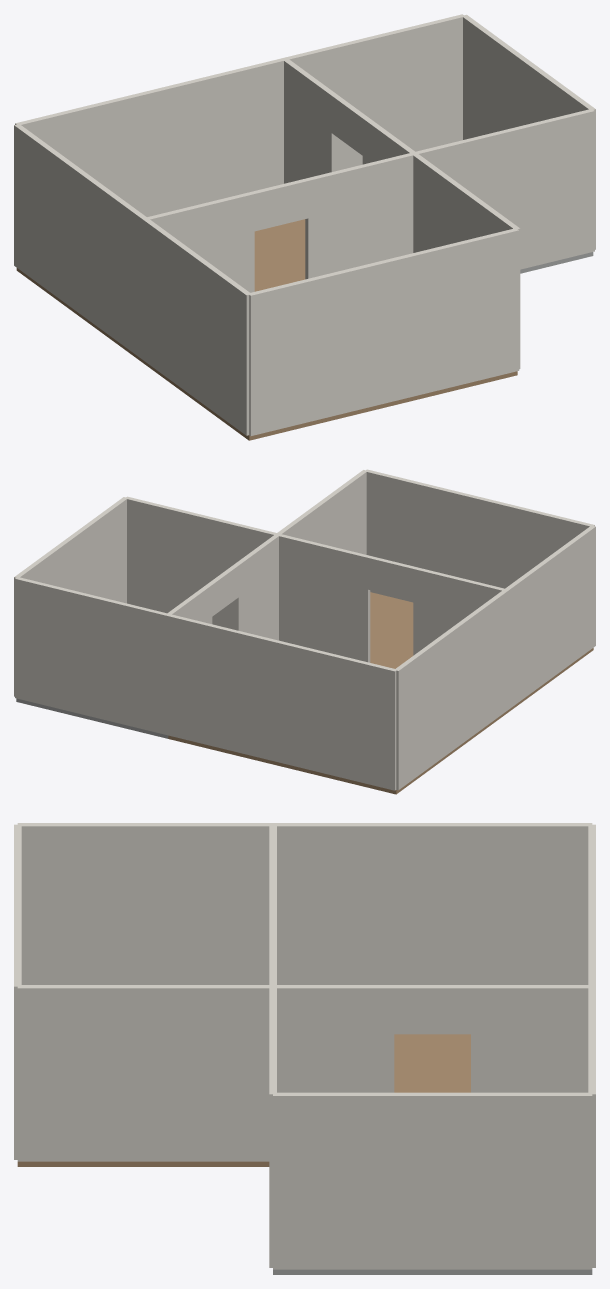
File: interactive-3d.glb
3 views of the same model, one above another, from view 1: azimuth 30°, elevation 25°; view 2: azimuth 150°, elevation 25°; view 3: azimuth 270°, elevation 25° (orthographic). The views are drawn at different scales.
Parts seen in each view (by area): view 1: wall_14, wall_5, wall_1, wall_11, wall_12, wall_10, wall_8, wall_9, wall_13, wall_6, wall_2, floor_living (+4 smaller); view 2: wall_5, wall_10, wall_14, wall_1, wall_12, wall_11, wall_8, wall_9, wall_6, wall_13, wall_4, floor_bedroom (+5 smaller); view 3: wall_9, wall_1, wall_13, wall_12, wall_4, wall_2, floor_living, wall_3, wall_14, floor_kitchen, wall_11, wall_10 (+2 smaller).
Boxes of the visible parts, <box> form: wall_14: <box>249,228,519,435</box>; wall_5: <box>15,58,285,216</box>; wall_1: <box>14,124,147,359</box>; wall_11: <box>413,109,594,269</box>; wall_12: <box>143,219,251,435</box>; wall_10: <box>284,14,464,170</box>; wall_8: <box>305,152,415,279</box>; wall_9: <box>462,14,595,249</box>; wall_13: <box>413,154,520,368</box>; wall_6: <box>146,191,254,292</box>; wall_2: <box>283,58,336,183</box>; floor_living: <box>16,219,305,364</box>; wall_5: <box>167,614,396,790</box>; wall_10: <box>15,577,168,734</box>; wall_14: <box>366,469,594,602</box>; wall_1: <box>395,589,508,790</box>; wall_12: <box>504,525,595,709</box>; wall_11: <box>125,496,278,629</box>; wall_8: <box>277,533,370,662</box>; wall_9: <box>14,497,127,696</box>; wall_6: <box>413,567,506,655</box>; wall_13: <box>277,470,367,554</box>; wall_4: <box>234,535,278,640</box>; floor_bedroom: <box>370,592,593,713</box>; wall_9: <box>273,1092,592,1269</box>; wall_1: <box>273,823,592,984</box>; wall_13: <box>17,985,272,1161</box>; wall_12: <box>17,823,272,984</box>; wall_4: <box>273,985,394,1092</box>; wall_2: <box>471,985,592,1092</box>; floor_living: <box>394,1034,470,1092</box>; wall_3: <box>394,985,470,1034</box>; wall_14: <box>14,824,21,1159</box>; floor_kitchen: <box>273,1269,592,1274</box>; wall_11: <box>269,986,276,1267</box>; wall_10: <box>588,986,595,1267</box>.
Bounding box in the file's own units: 10.12 × 3.12 × 9.12.
